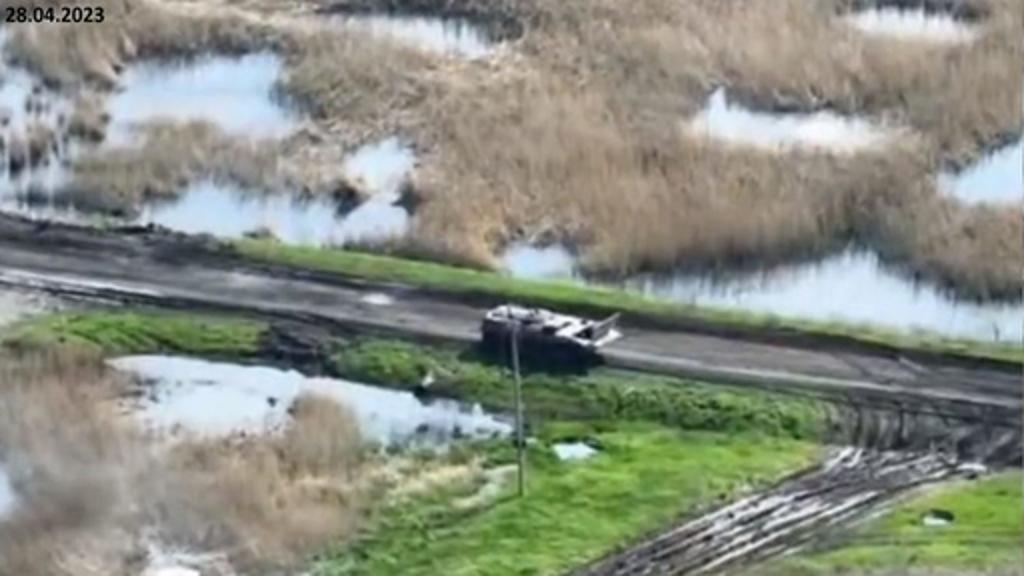APC-IFV: (484, 290, 626, 360)
